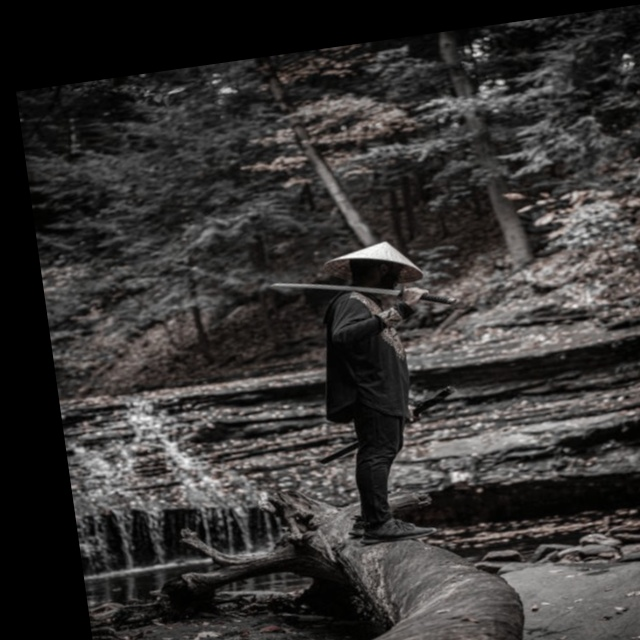Sharp-Object: (260, 250, 477, 339)
